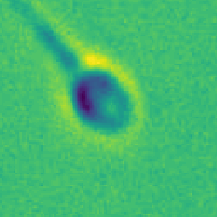normal: (7, 1, 107, 75)
